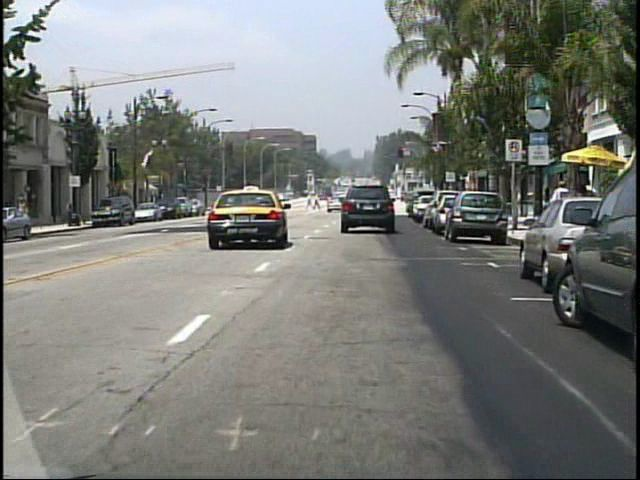person: (549, 179, 569, 213), (18, 196, 31, 231), (309, 193, 320, 212), (305, 191, 315, 211)
